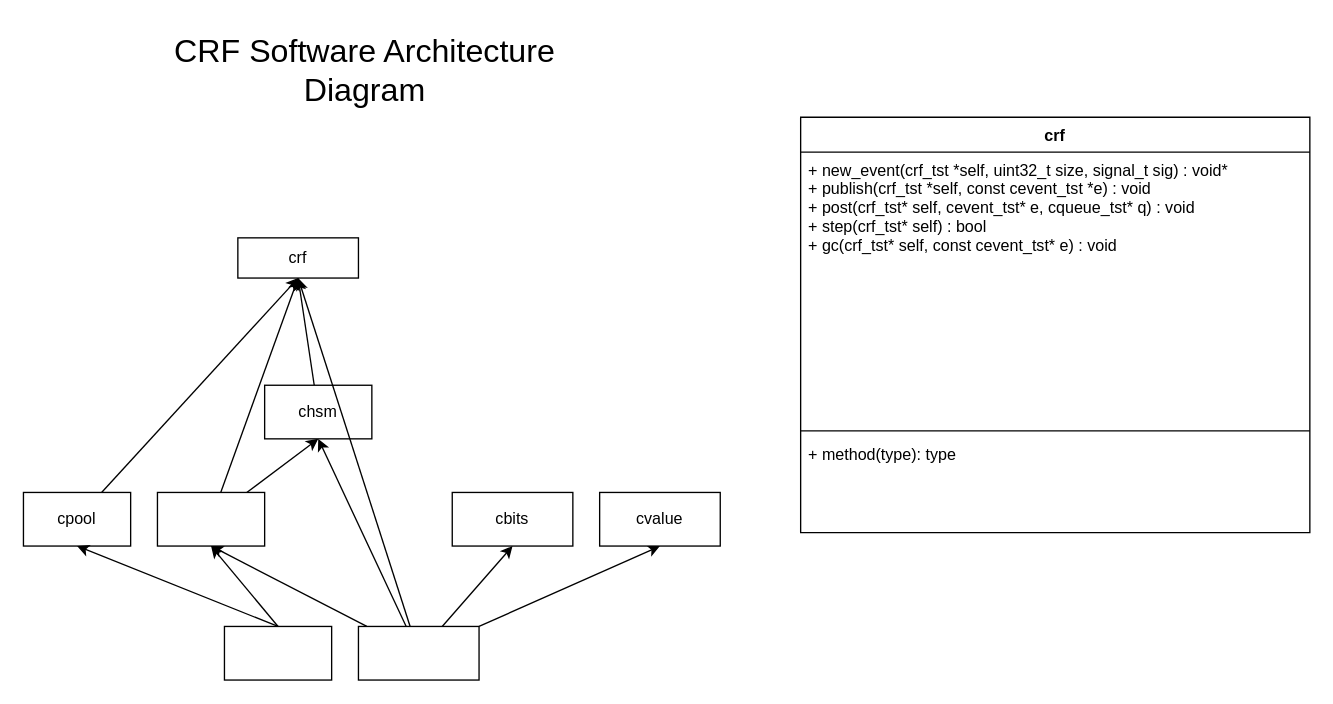
The diagram is 1333 pixels wide and 704 high, and some of its shapes have lost their labels. Here are the shapes that lost their labels. From the top down, the centre of each, then its label:
(x=210, y=518): cqueue
(x=277, y=652): atomic_op
(x=418, y=652): cevent
